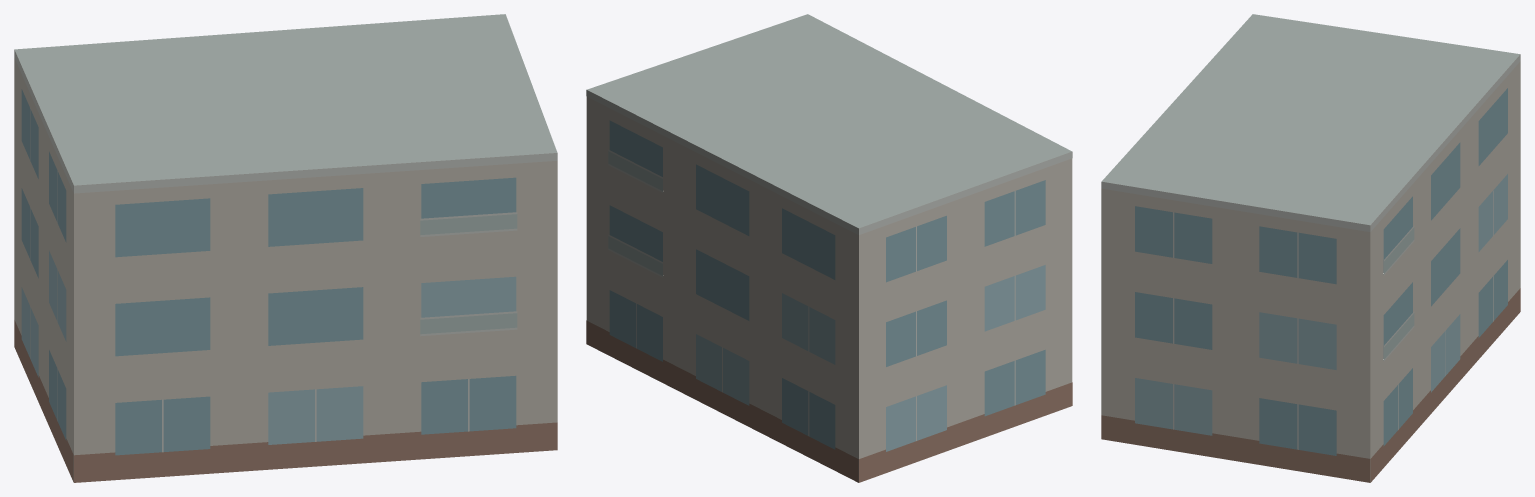
File: survey-upis-32876770.glb
The picture shows the model from 3 angles, left to right: view 1: azimuth 30°, elevation 25°; view 2: azimuth 150°, elevation 25°; view 3: azimuth 270°, elevation 25°; orthographic projection. The views are drawn at different scales.
Parts seen in each view (by area): view 1: survey-upis-32876770.tmp; view 2: survey-upis-32876770.tmp; view 3: survey-upis-32876770.tmp.
Part boxes in pixels (x1,y1,x2,y2): survey-upis-32876770.tmp: [14, 14, 557, 482]; survey-upis-32876770.tmp: [586, 14, 1072, 482]; survey-upis-32876770.tmp: [1101, 14, 1520, 482].
Bounding box in the file's own units: 16.11 × 9.15 × 13.5.
